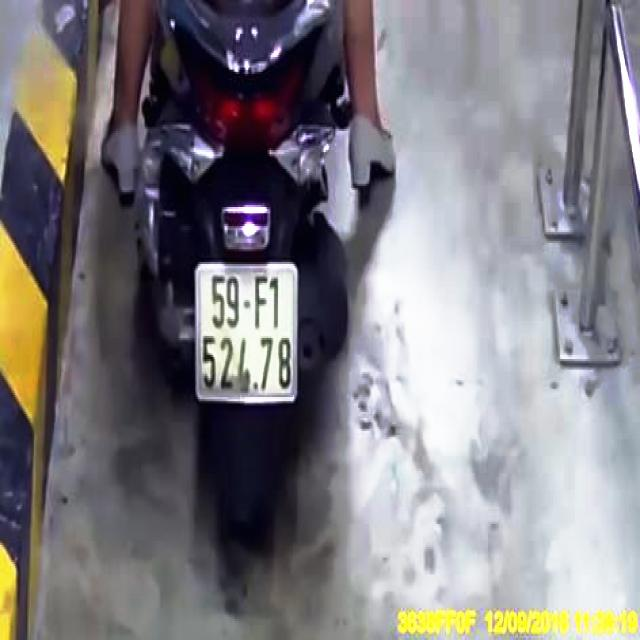license_plate: (197, 262, 299, 398)
